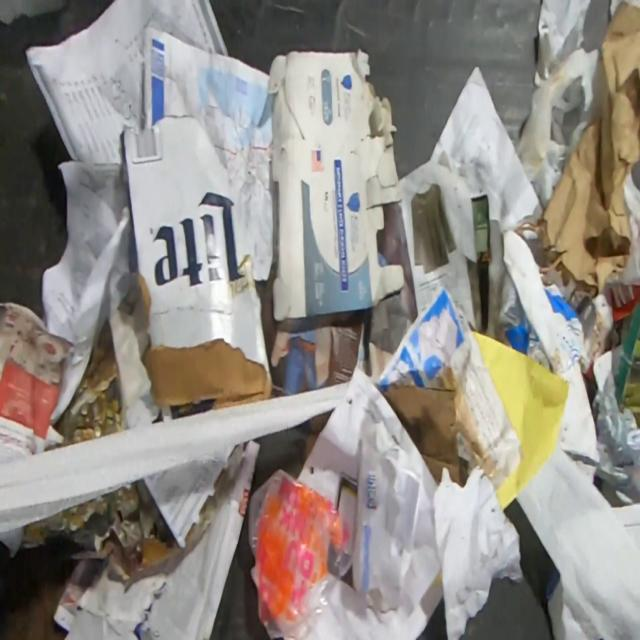cardboard: (121, 113, 275, 416), (265, 47, 405, 321), (381, 365, 464, 487)
rigid_plastic: (246, 466, 357, 640)
